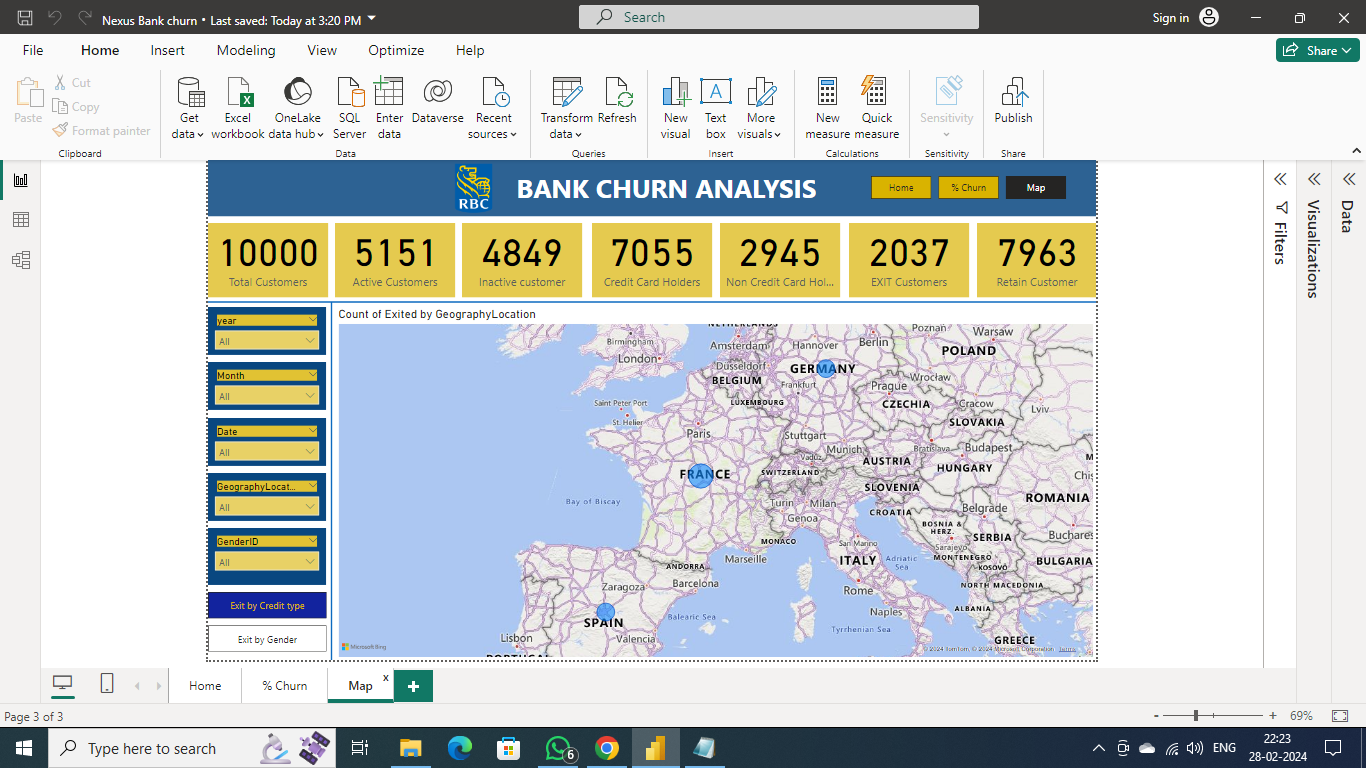

The page's visual inventory and layout, read from the dashboard file:
{"tool":"powerbi","page":{"name":"Map","canvas":[1280,720],"ordinal":2},"visuals":[{"type":"card","fields":{"Values":["Calculations.Total Customers"]},"box":[0,90.7,172.8,106.6],"z":0},{"type":"card","fields":{"Values":["Calculations.Active Customers"]},"box":[182.9,90.7,172.8,106.6],"z":1000},{"type":"card","fields":{"Values":["Calculations.Inactive customer"]},"box":[365.8,90.7,172.8,106.6],"z":2000},{"type":"card","fields":{"Values":["Calculations.Credit Card Holders"]},"box":[553,90.7,172.8,106.6],"z":3000},{"type":"card","fields":{"Values":["Calculations.Non Credit Card Holders"]},"box":[737.3,90.7,172.8,106.6],"z":4000},{"type":"card","fields":{"Values":["Calculations.EXIT Customers"]},"box":[923,90.7,172.8,106.6],"z":5000},{"type":"card","fields":{"Values":["Calculations.Retain Customer"]},"box":[1107.2,90.7,172.8,106.6],"z":6000},{"type":"shape","box":[0,197.3,1280.2,14.4],"z":7000},{"type":"shape","box":[172.8,204.5,10.1,515.5],"z":8000},{"type":"map","fields":{"Category":["Geography.GeographyLocation"],"Size":["CountNonNull(Bank_Churn.Exited)"]},"box":[183,211,1097,509],"z":9000},{"type":"textbox","box":[0,0,1280.2,80.6],"z":10000},{"type":"pageNavigator","box":[954.7,23,282.2,33.1],"z":11000},{"type":"image","box":[312.5,0,139.7,80.6],"z":12000},{"type":"slicer","fields":{"Values":["Date Master.year"]},"box":[0,211.7,169.9,69.1],"z":13000},{"type":"slicer","fields":{"Values":["Date Master.Month"]},"box":[0,290.9,169.9,69.1],"z":14000},{"type":"slicer","fields":{"Values":["Date Master.Date"]},"box":[0,371.5,169.9,69.1],"z":15000},{"type":"bookmarkNavigator","box":[0,622.1,171.4,86.4],"z":16000},{"type":"slicer","fields":{"Values":["Geography.GeographyLocation"]},"box":[0,450.7,169.9,69.1],"z":17000},{"type":"slicer","fields":{"Values":["Gender.GenderID"]},"box":[0,529.9,169.9,82.1],"z":18000}]}

Visuals, with their boxes on the page's 1280x720 design canvas (x1, y1, x2, y2). These are canvas units, not pixel positions in the 1366x768 screenshot, which may show the page scaled, cropped or inside an application window:
card - Calculations.Total Customers: 0 91 173 197
card - Calculations.Active Customers: 183 91 356 197
card - Calculations.Inactive customer: 366 91 539 197
card - Calculations.Credit Card Holders: 553 91 726 197
card - Calculations.Non Credit Card Holders: 737 91 910 197
card - Calculations.EXIT Customers: 923 91 1096 197
card - Calculations.Retain Customer: 1107 91 1280 197
shape: 0 197 1280 212
shape: 173 204 183 720
map - Geography.GeographyLocation x CountNonNull(Bank_Churn.Exited): 183 211 1280 720
textbox: 0 0 1280 81
pageNavigator: 955 23 1237 56
image: 312 0 452 81
slicer - Date Master.year: 0 212 170 281
slicer - Date Master.Month: 0 291 170 360
slicer - Date Master.Date: 0 372 170 441
bookmarkNavigator: 0 622 171 708
slicer - Geography.GeographyLocation: 0 451 170 520
slicer - Gender.GenderID: 0 530 170 612
